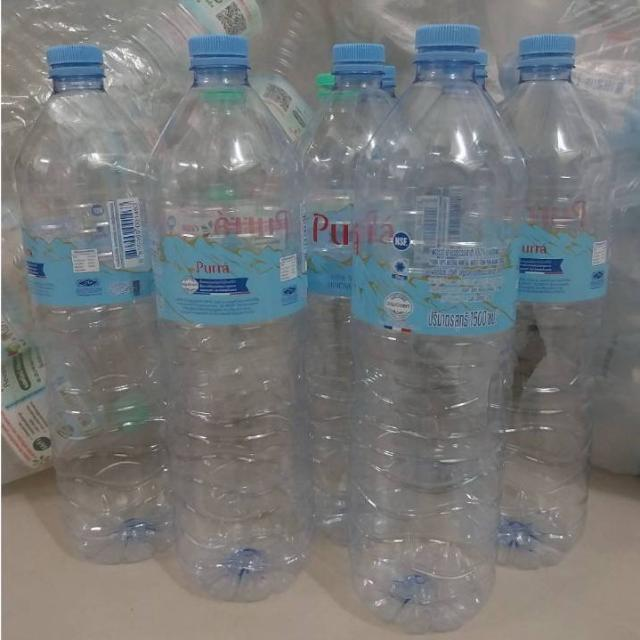PET Bottle: (123, 18, 319, 606), (333, 19, 501, 629), (12, 22, 169, 574), (497, 19, 604, 615), (296, 26, 396, 555)
